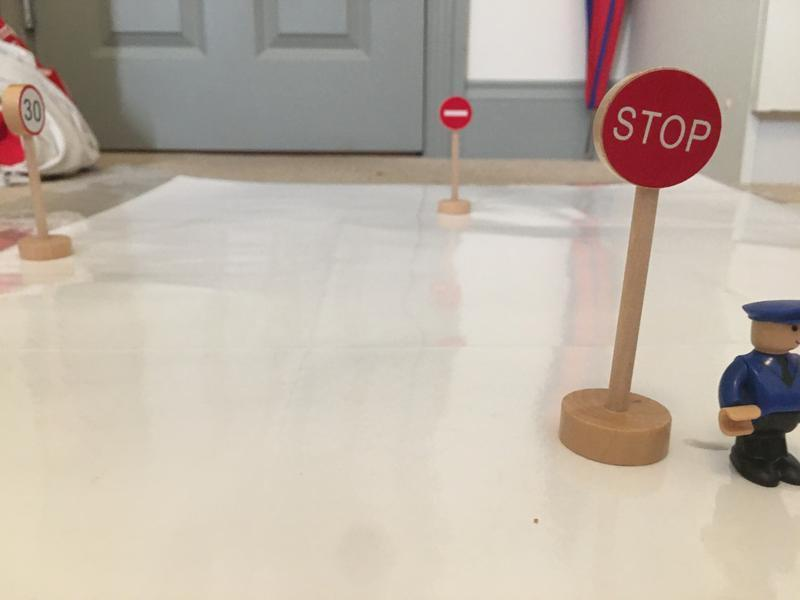Traffic_Sign_30: (18, 84, 46, 135)
Traffic_Sign_No_Entry: (441, 98, 472, 128)
Traffic_Sign_Stop: (599, 69, 719, 190)
person: (714, 291, 800, 491)
